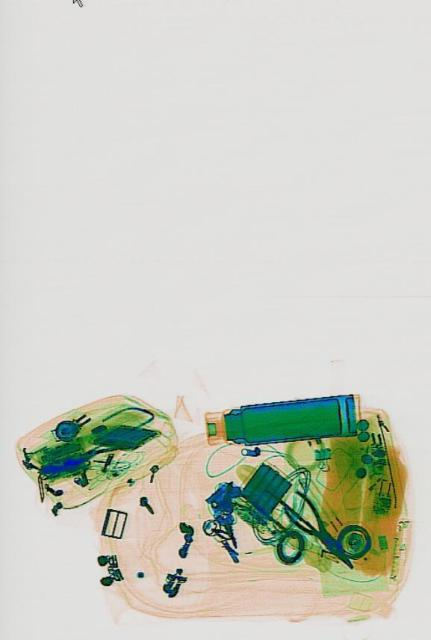Pliers: (280, 486, 360, 580)
